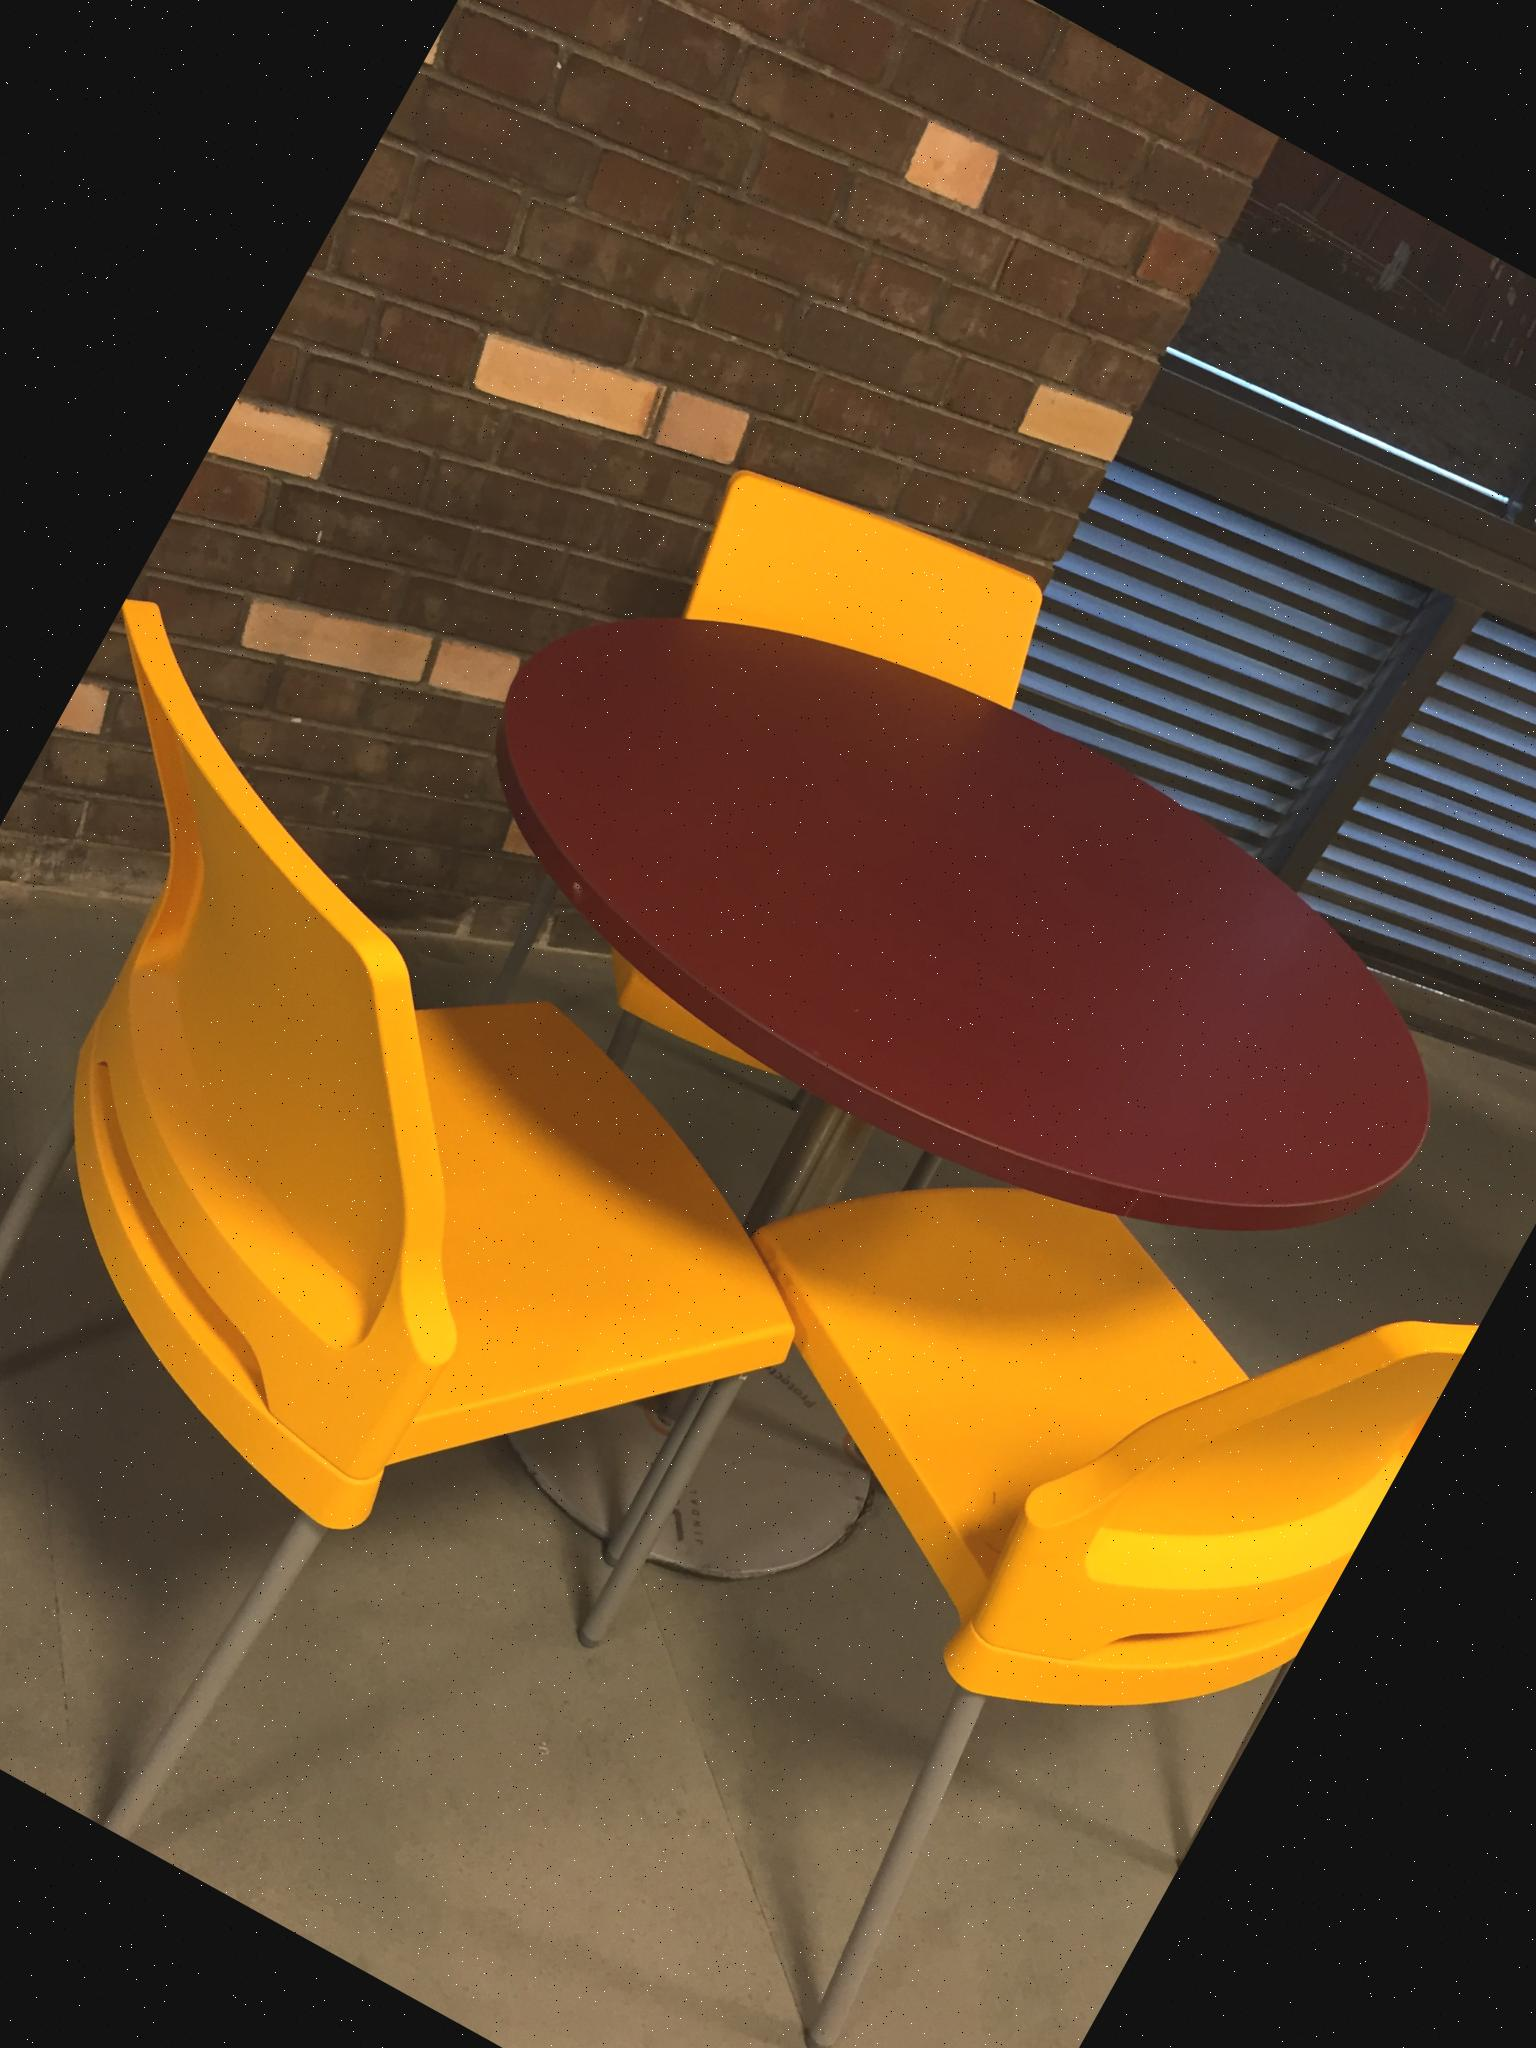chair: (0, 587, 958, 2001), (419, 993, 1480, 2048), (336, 397, 1325, 1419)
